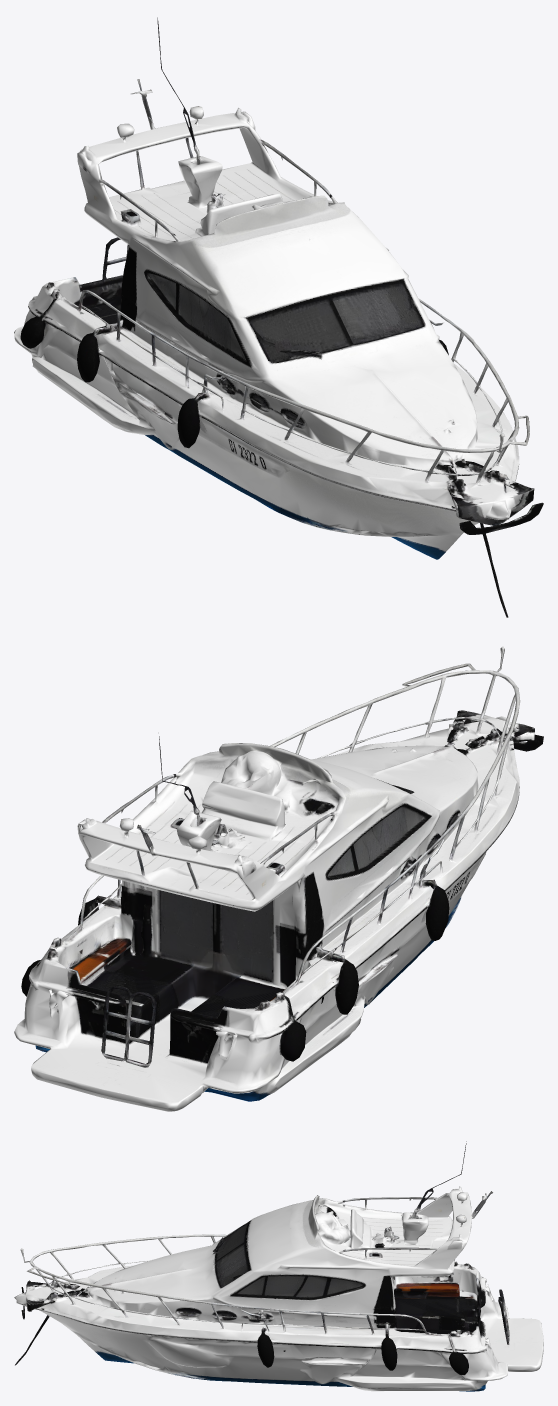
The model's file is boat_marina.glb.
3 renders of one model, top to bottom at view 1: azimuth 30°, elevation 25°; view 2: azimuth 150°, elevation 25°; view 3: azimuth 270°, elevation 25°, orthographic. The views are drawn at different scales.
Visible parts, largest first — view 1: frame; view 2: frame; view 3: frame.
Part boxes in pixels (box(x1,y1,x2,y2)): frame: box(14, 17, 543, 617); frame: box(14, 646, 543, 1111); frame: box(14, 1141, 543, 1391).
Size of the model in its own units: 4.4 by 5.27 by 11.25.
Materials: 1 (1 with a texture image).
